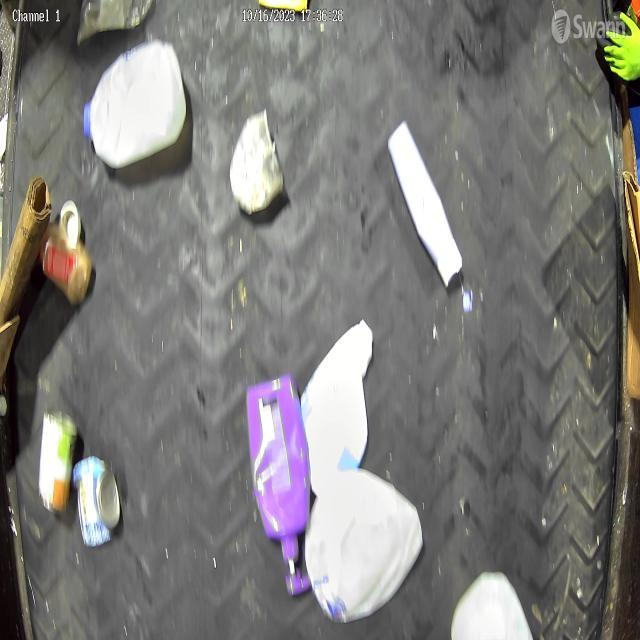can: (72, 450, 116, 552), (230, 117, 281, 204), (37, 416, 76, 508)
milk_jug: (308, 457, 414, 629), (78, 44, 182, 152)
non_white_jug: (245, 384, 315, 590)
